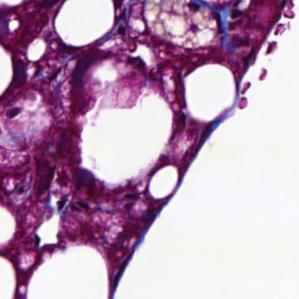inflammation: (30, 156, 88, 209)
